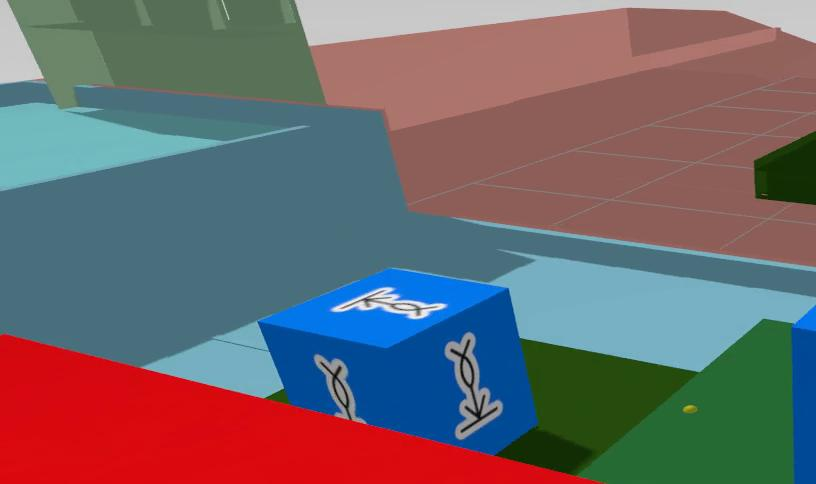KFS_FAKE: (0, 337, 597, 484)
KFS_REAL: (259, 268, 536, 454), (444, 332, 502, 440), (792, 306, 816, 484), (330, 285, 447, 319), (314, 355, 364, 421)
